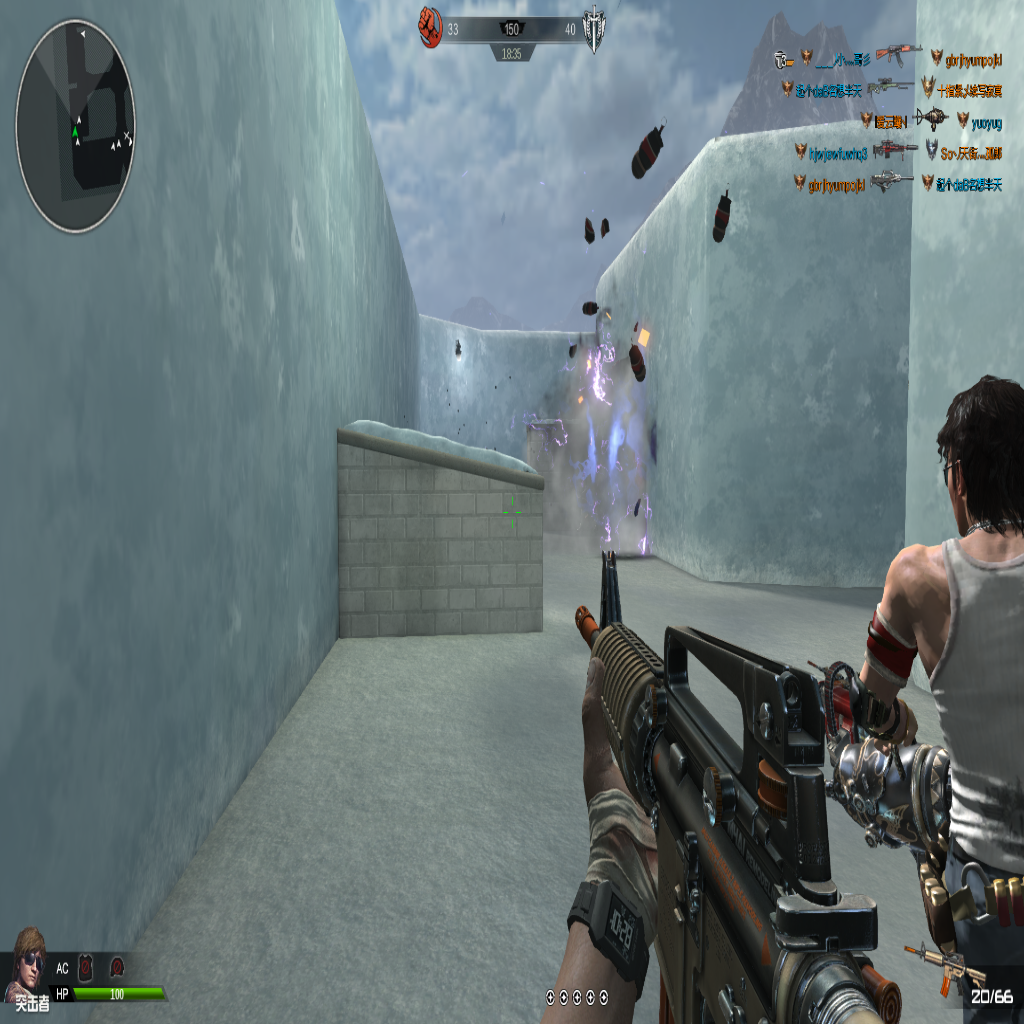tt: (845, 359, 1023, 969)
